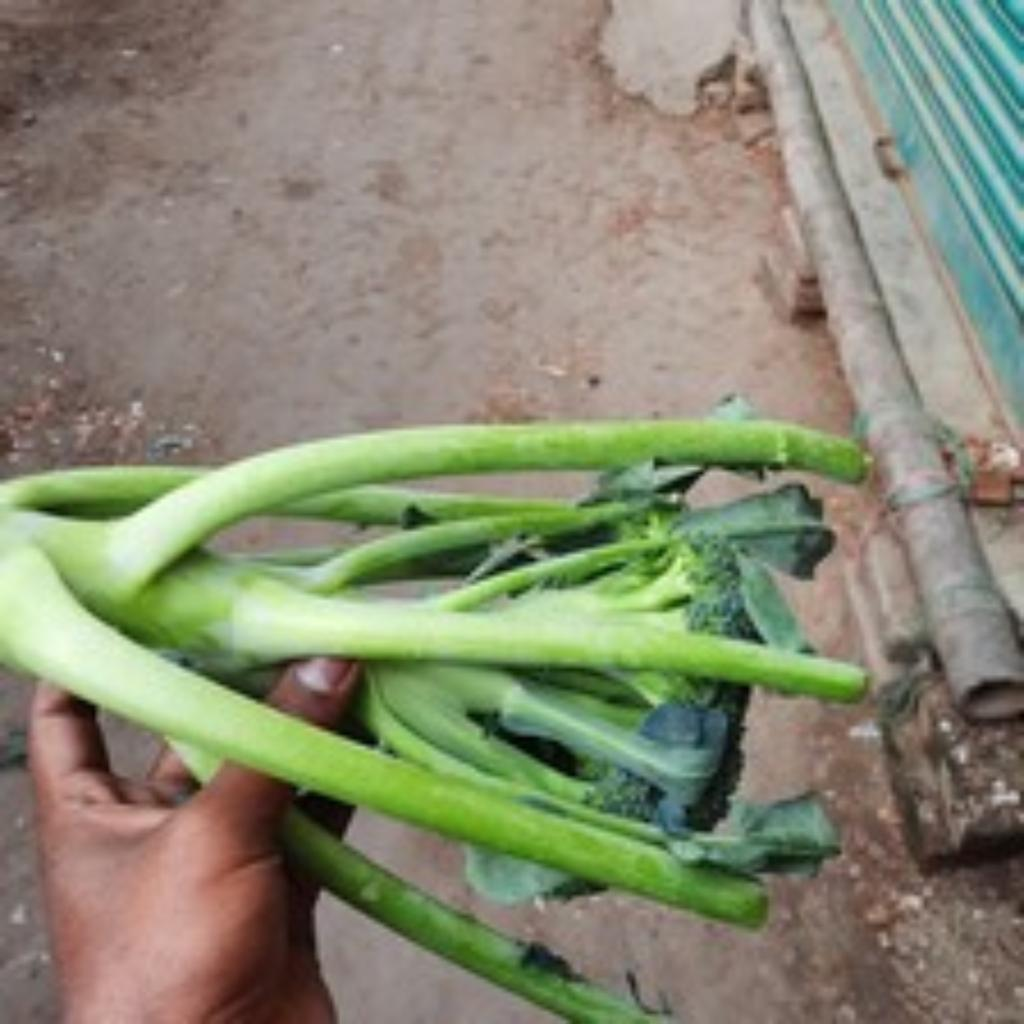Broccoli: (0, 418, 870, 1023), (0, 420, 868, 923), (582, 466, 705, 505)
